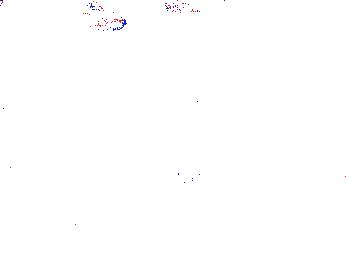X-ray fish: (176, 161, 205, 187)
glassfish: (293, 46, 343, 77)
red belly glassfish: (63, 5, 128, 33)
redtail glassfish: (161, 1, 229, 14)
